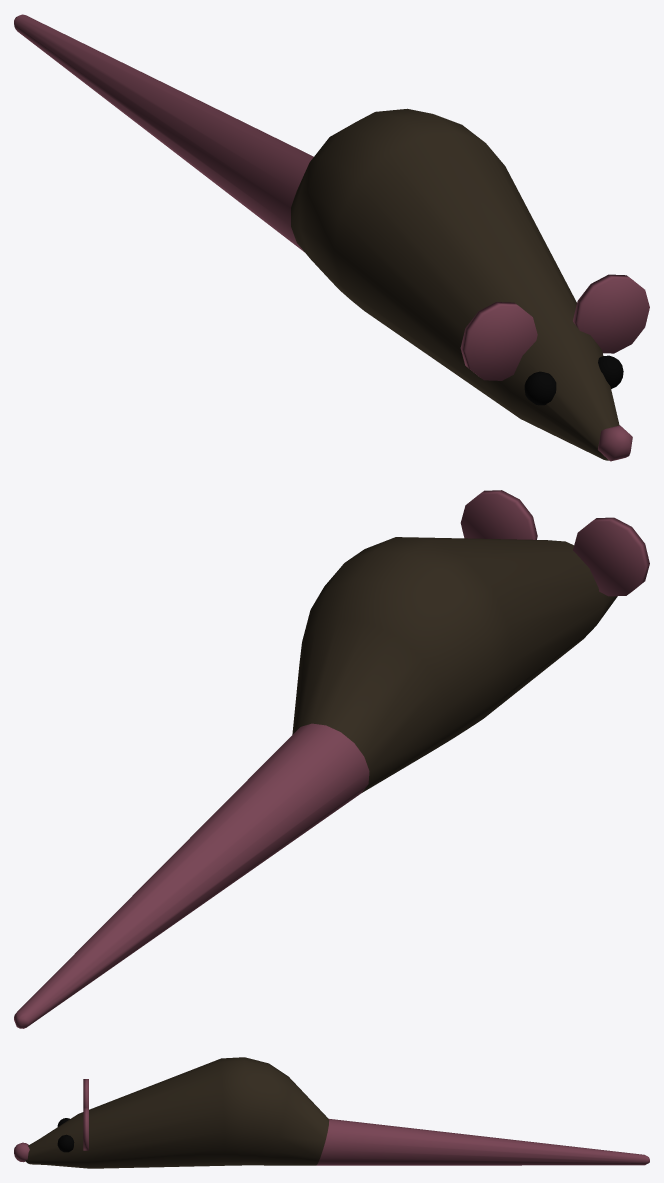
Rendered from Rat (vertex).fbx.
3 views of the same model, one above another, from view 1: azimuth 30°, elevation 25°; view 2: azimuth 150°, elevation 25°; view 3: azimuth 270°, elevation 25° (orthographic). The views are drawn at different scales.
Parts seen in each view (by area): view 1: rat1; view 2: rat1; view 3: rat1.
Boxes of the visible parts, x1,y1,x2,y2 form: rat1: (14,14,649,461); rat1: (14,490,649,1028); rat1: (14,1057,649,1168).
Bounding box in the file's own units: 1.97 × 2.03 × 11.28.
